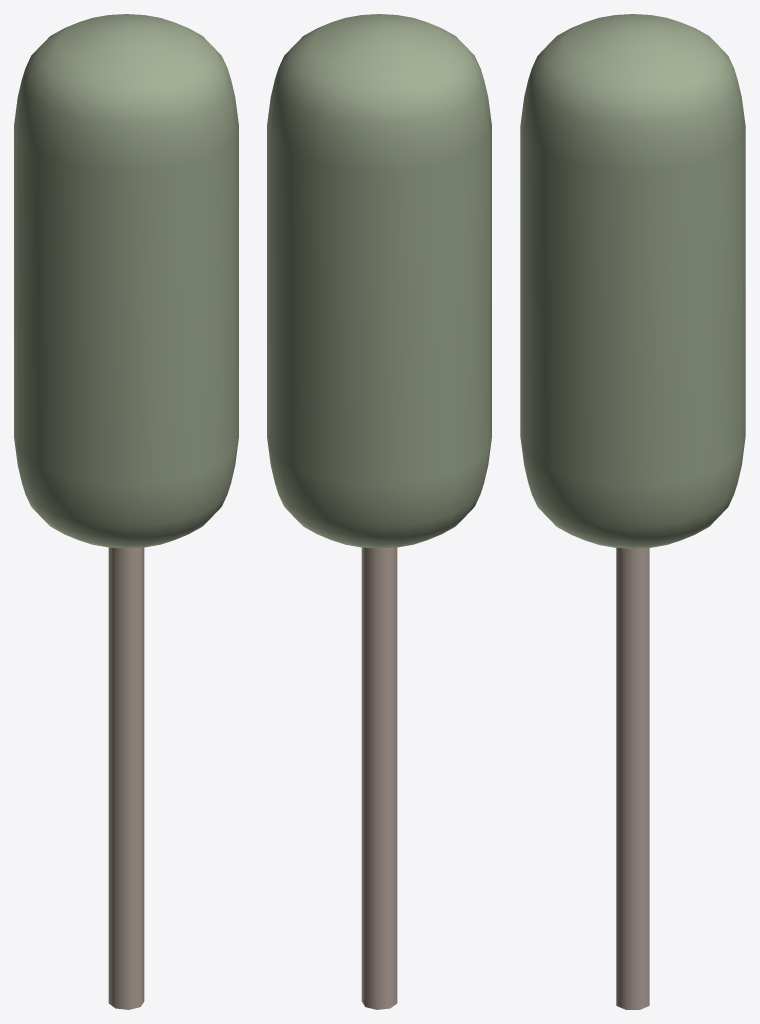
The model's file is SequoiaSempervirens.glb.
3 views of the same model, side by side, from view 1: azimuth 30°, elevation 25°; view 2: azimuth 150°, elevation 25°; view 3: azimuth 270°, elevation 25° (orthographic).
Visible parts, largest first — view 1: California_Redwood__Schematic_LOD3; view 2: California_Redwood__Schematic_LOD3; view 3: California_Redwood__Schematic_LOD3.
Part boxes in pixels (x1,y1,x2,y2): California_Redwood__Schematic_LOD3: (14,14,238,1009); California_Redwood__Schematic_LOD3: (267,14,491,1009); California_Redwood__Schematic_LOD3: (520,14,745,1009).
Size of the model in its own units: 15.86 by 75.66 by 15.86.
